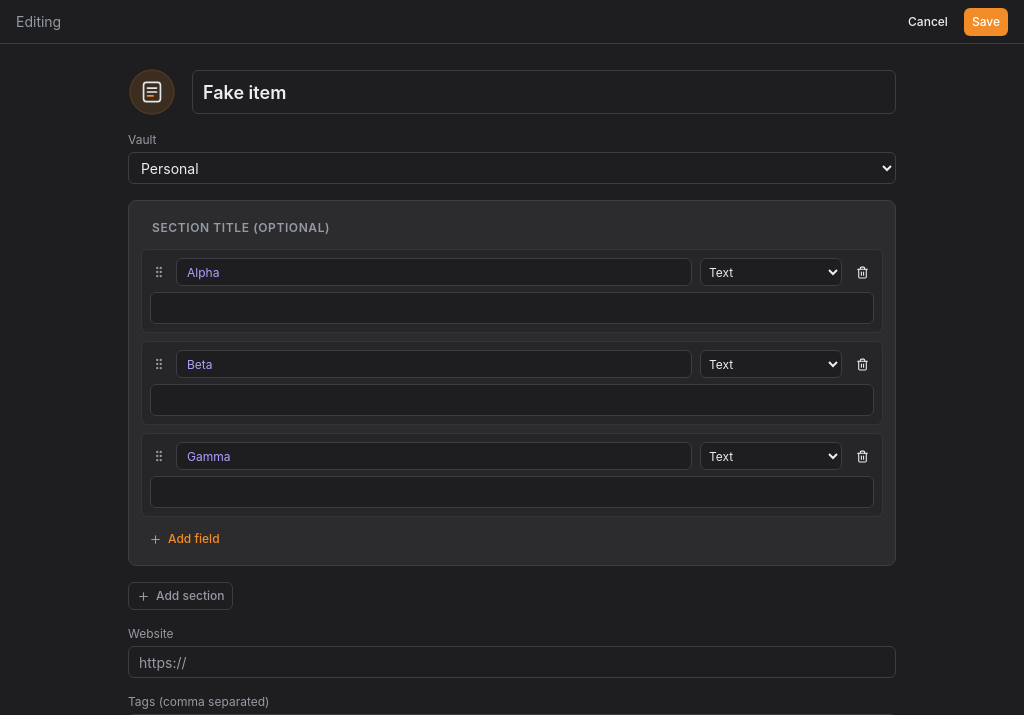
Test: Item editor: add field menu, reorder and undo › menu item Password adds a concealed field with the default label and focuses the label
Press Enter in the button "Add field", box [141, 525, 228, 553]
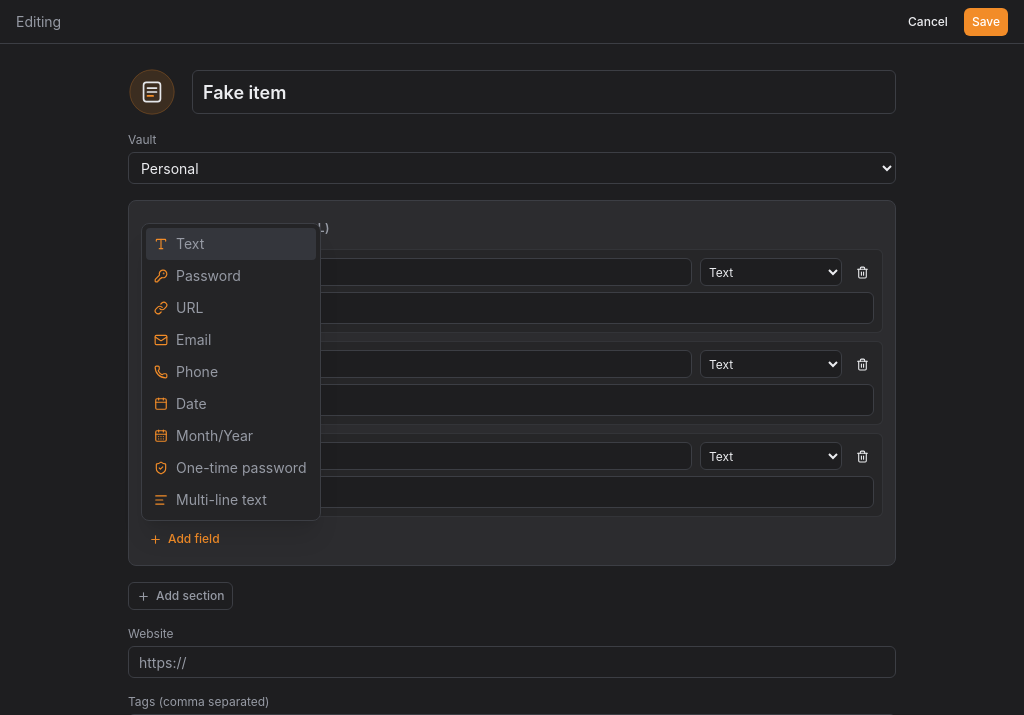
Click the menu item "Password". click: (197, 276)
box: [154, 267, 241, 284]
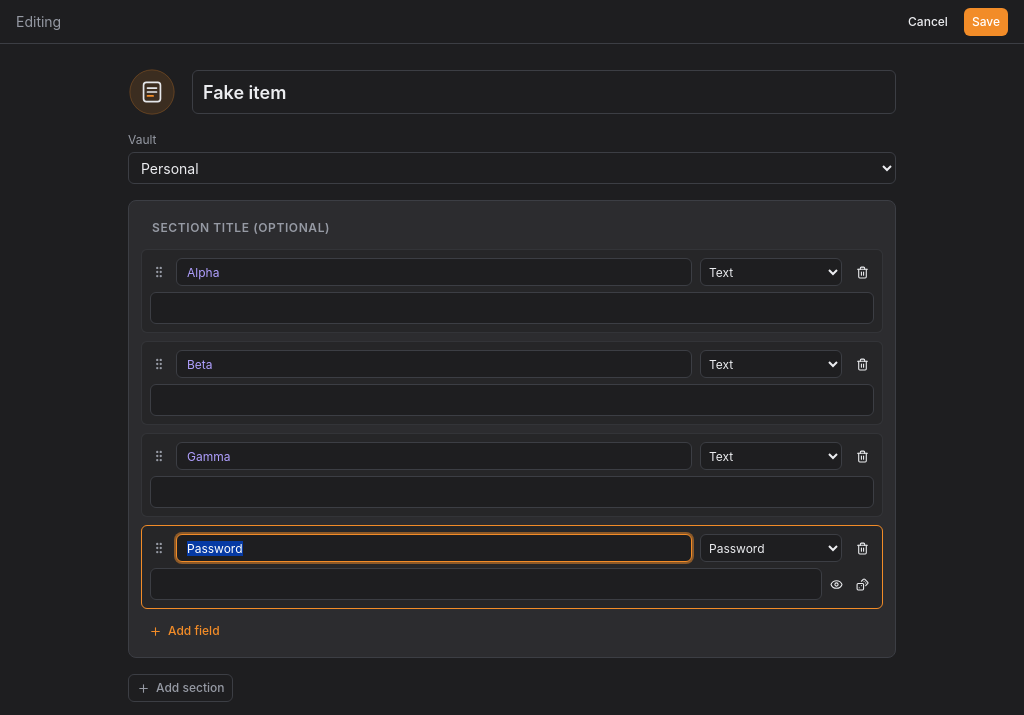
Expected: the number of elements with test id "field-editor" is 4, [141, 249, 883, 333]; [141, 341, 883, 425]; [141, 433, 883, 517]; [141, 525, 883, 609]
Expected: the 4th dropdown named "Field type" shows "Password", [700, 534, 842, 562]
Expected: the 4th field named "Field label" holds "Password", [176, 534, 692, 562]
